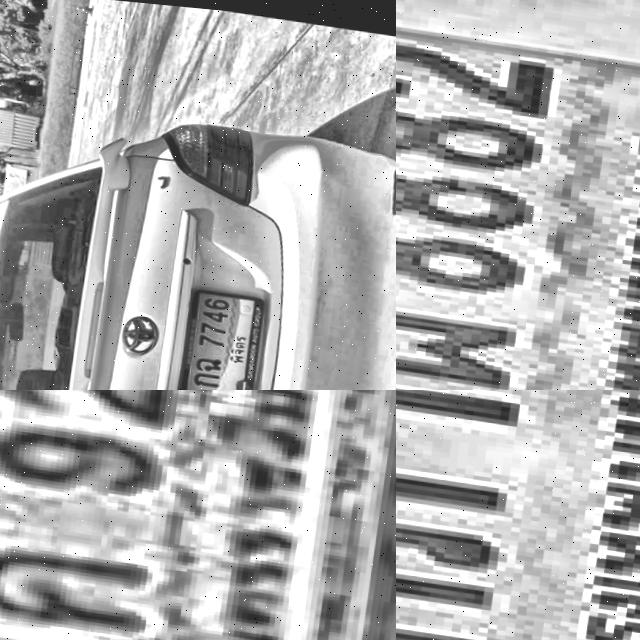license-plate: (0, 390, 396, 640), (396, 0, 640, 390), (396, 390, 640, 640), (169, 271, 275, 390)
